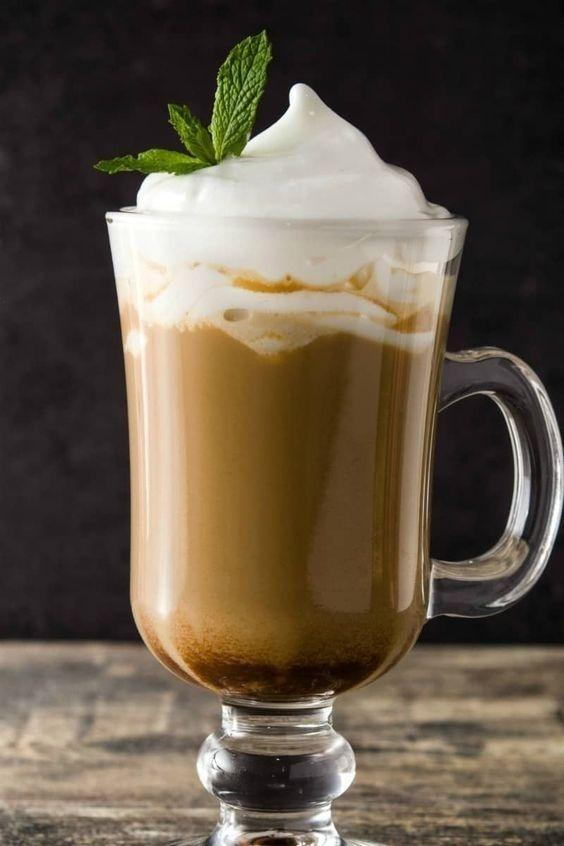glass-mug: (104, 193, 560, 844)
